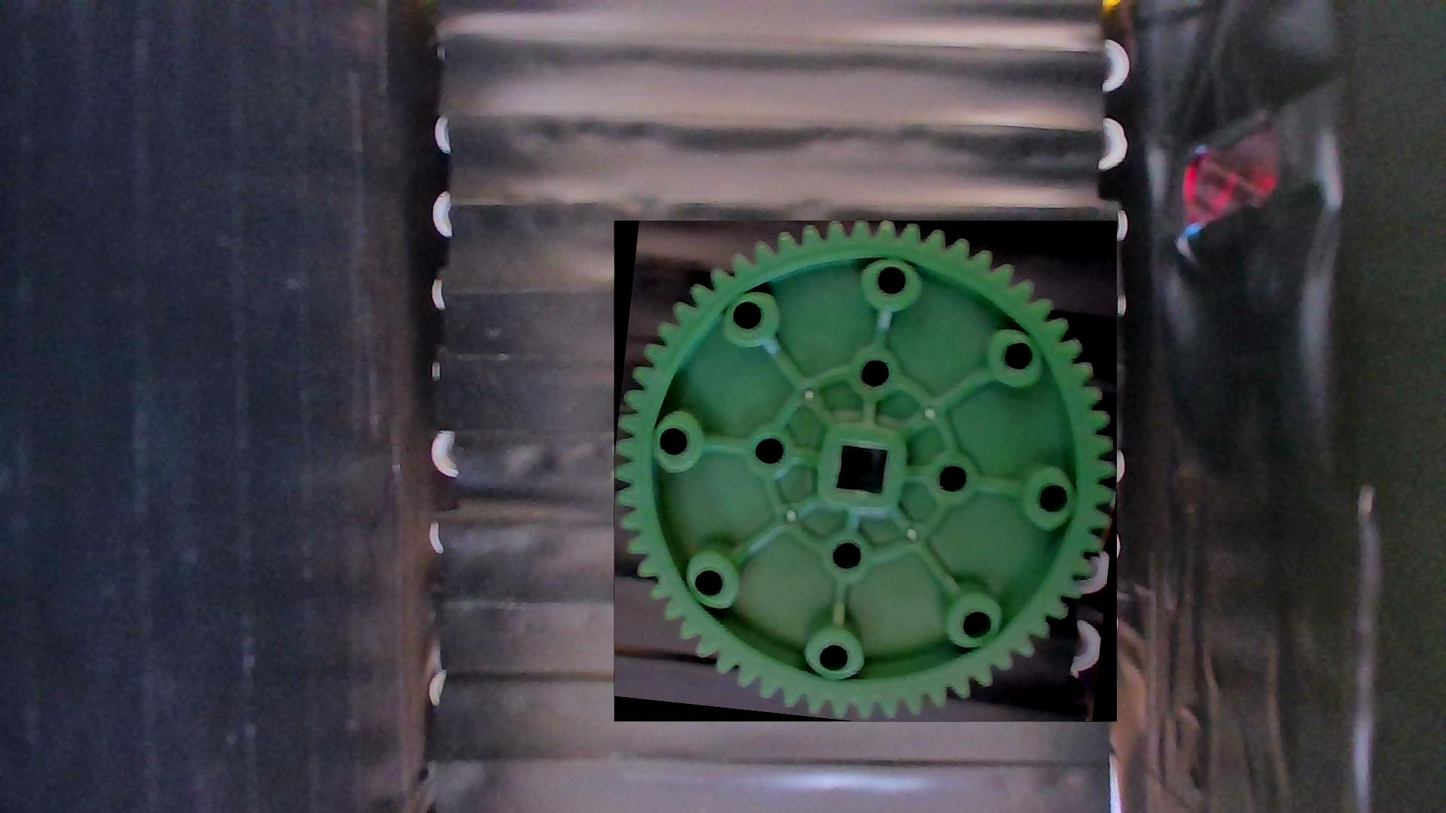gear: (613, 221, 1116, 722)
